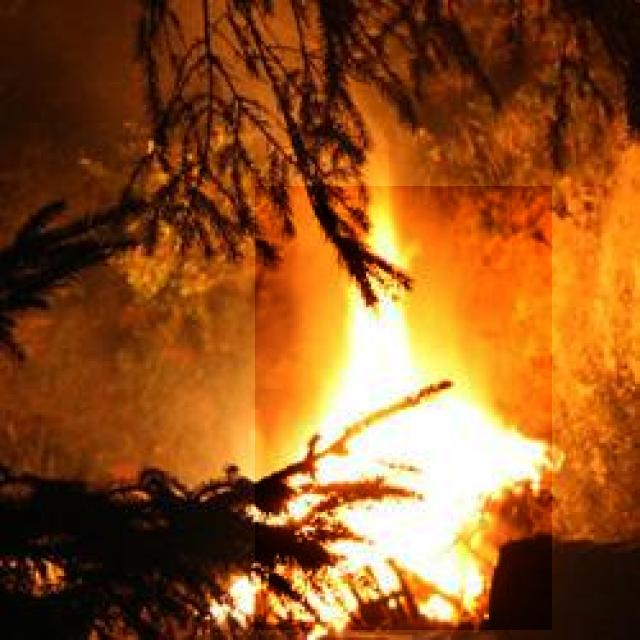Fire: (255, 186, 552, 630)
